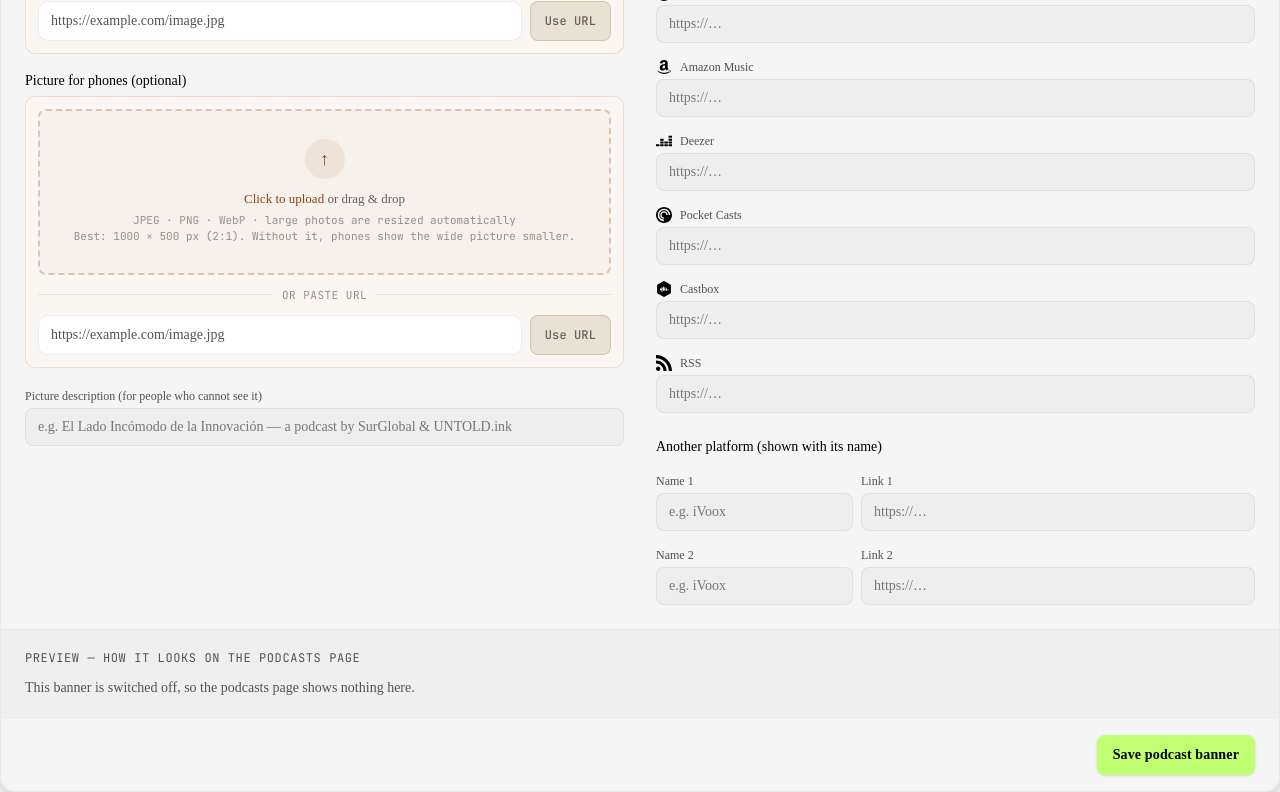
Test case: PodcastBannerForm (Admin → Advertising) › shows the error when saving fails
The image size is (1280, 792).
(page scrolled)
What coordinates should you click on to do the following:
click the button "Save podcast banner"
I would click on:
 (1176, 755)
Its box is [1097,735,1255,775].
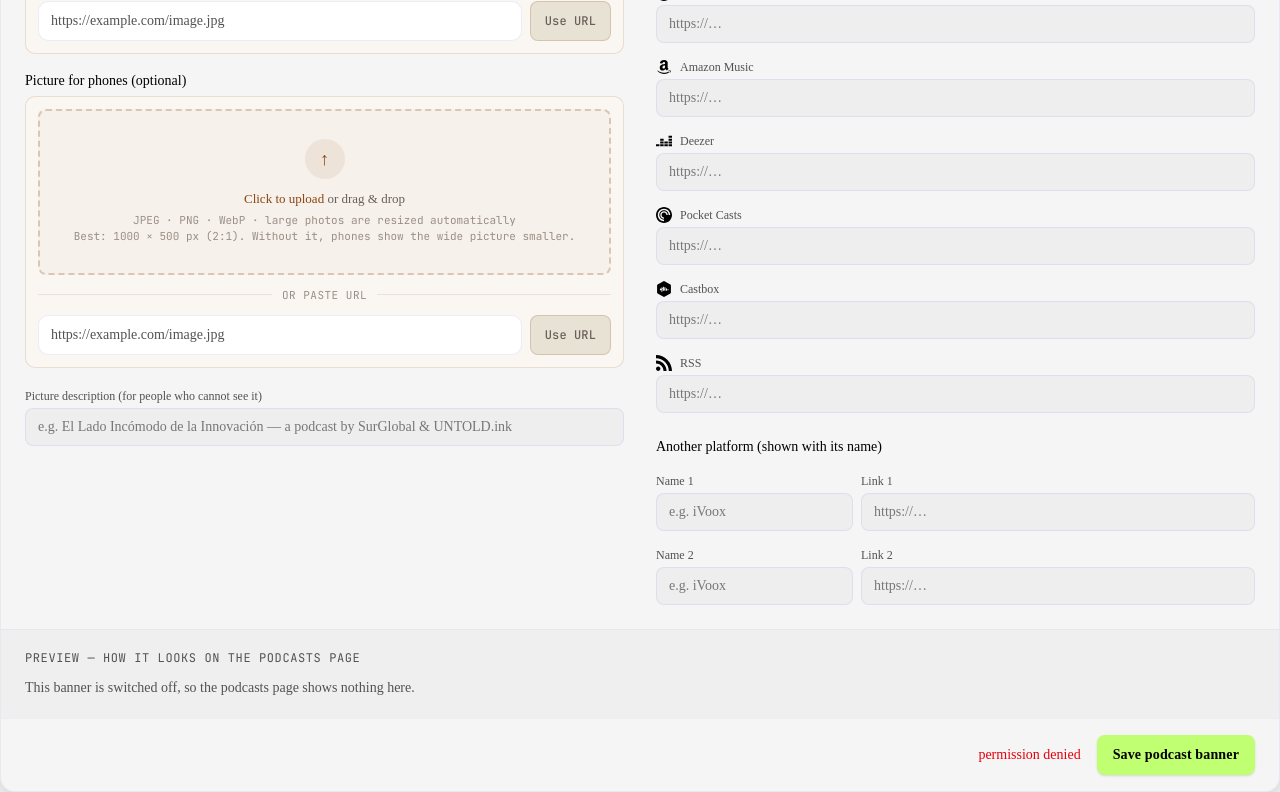
Check: the text "permission denied" is shown, box [978,745,1081,765]
